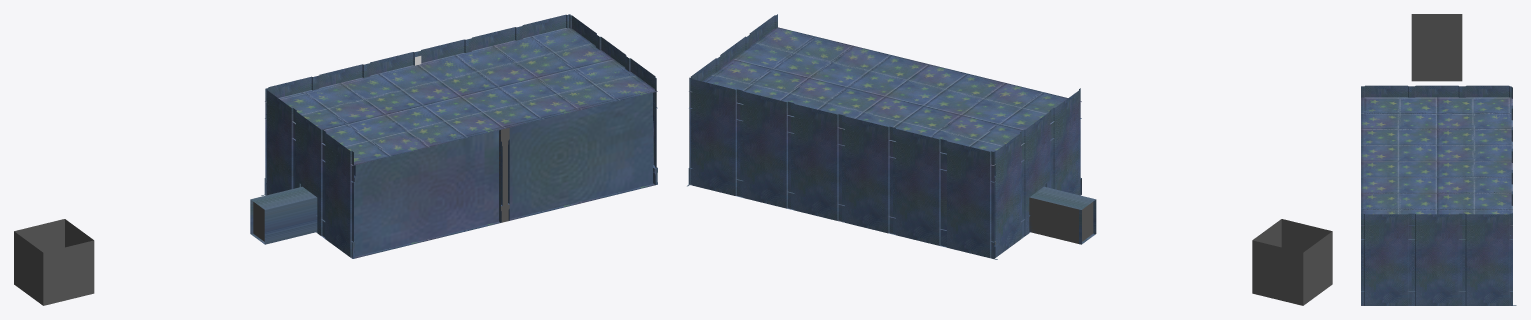
Rendered from las_16_bake_split.dae.
3 views of the same model, side by side, from view 1: azimuth 30°, elevation 25°; view 2: azimuth 150°, elevation 25°; view 3: azimuth 270°, elevation 25° (orthographic). The views are drawn at different scales.
Parts seen in each view (by area): view 1: pCube4_q00011, pCube1_q00009, pCube1_q00216, polySurface204_q00000, pCube3_q00199, pCube3_q00198, pCube3_q00197, pCube3_q00005, pCube3_q00185, pCube3_q00187, pCube1_q00217, pCube3_q00188 (+6 smaller); view 2: pCube1_q00216, pCube1_q00009, pCube3_q00188, pCube3_q00185, pCube3_q00183, pCube3_q00186, pCube3_q00184, pCube3_q00187, polySurface204_q00000, pCube3_q00199, pCube3_q00197, pCube3_q00198 (+4 smaller); view 3: pCube1_q00216, pCube1_q00009, pCube3_q00211, pCube3_q00209, pCube3_q00210, e_bero_1, polySurface204_q00000, pCube3_q00199, pCube3_q00198, pCube3_q00197.
Part boxes in pixels (<box>): pCube4_q00011: <box>354,93,652,256</box>; pCube1_q00009: <box>280,29,649,159</box>; pCube1_q00216: <box>265,28,657,165</box>; polySurface204_q00000: <box>14,219,94,305</box>; pCube3_q00199: <box>250,109,324,244</box>; pCube3_q00198: <box>324,131,353,257</box>; pCube3_q00197: <box>266,89,294,195</box>; pCube3_q00005: <box>250,187,316,243</box>; pCube3_q00185: <box>261,76,315,195</box>; pCube3_q00187: <box>468,26,519,52</box>; pCube1_q00217: <box>351,183,655,258</box>; pCube3_q00188: <box>519,14,570,39</box>; pCube1_q00216: <box>689,27,1081,165</box>; pCube1_q00009: <box>706,29,1063,146</box>; pCube3_q00188: <box>689,77,741,197</box>; pCube3_q00185: <box>943,140,997,259</box>; pCube3_q00183: <box>893,127,946,247</box>; pCube3_q00186: <box>791,102,841,221</box>; pCube3_q00184: <box>842,115,892,233</box>; pCube3_q00187: <box>740,90,790,208</box>; polySurface204_q00000: <box>1252,219,1332,305</box>; pCube3_q00199: <box>1022,110,1096,244</box>; pCube3_q00197: <box>993,131,1024,257</box>; pCube3_q00198: <box>1051,88,1080,195</box>; pCube1_q00216: <box>1361,97,1512,225</box>; pCube1_q00009: <box>1364,98,1509,214</box>; pCube3_q00211: <box>1411,213,1462,305</box>; pCube3_q00209: <box>1361,213,1411,305</box>; pCube3_q00210: <box>1462,213,1516,305</box>; e_bero_1: <box>1411,35,1462,81</box>; polySurface204_q00000: <box>1411,14,1462,35</box>; pCube3_q00199: <box>1411,85,1462,97</box>; pCube3_q00198: <box>1361,85,1411,97</box>; pCube3_q00197: <box>1462,85,1511,97</box>.
Size of the model in its own units: 115 by 20 by 30.75.
